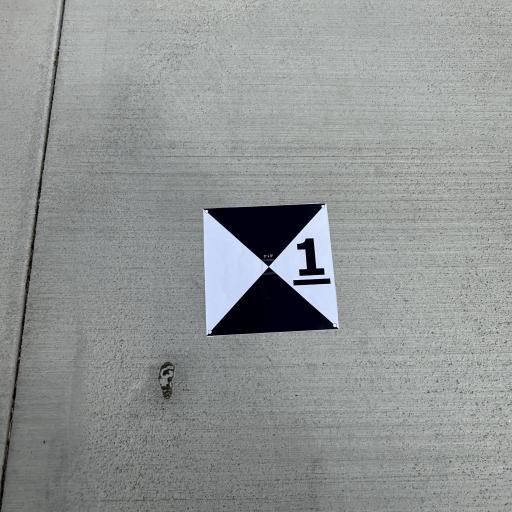target1: (200, 199, 344, 342)
